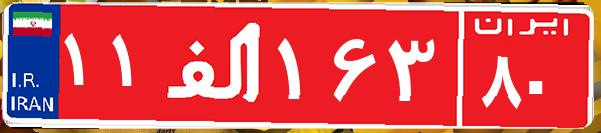0: (525, 38, 570, 115)
1: (273, 28, 330, 110), (57, 26, 110, 107), (110, 28, 158, 105)
3: (385, 28, 445, 110)
6: (330, 28, 385, 110)
8: (475, 38, 525, 113)
الف: (158, 15, 273, 115)
